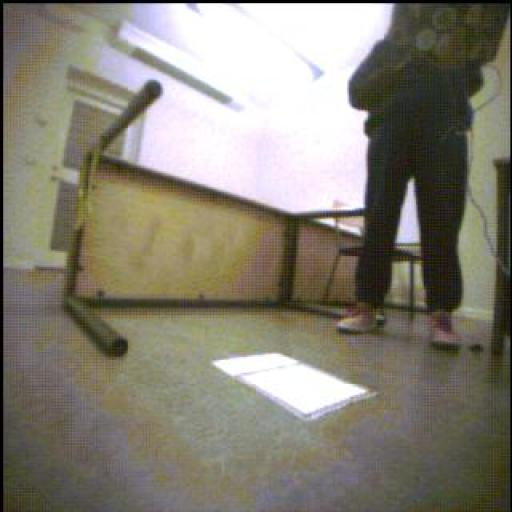Pad: (214, 355, 377, 422)
